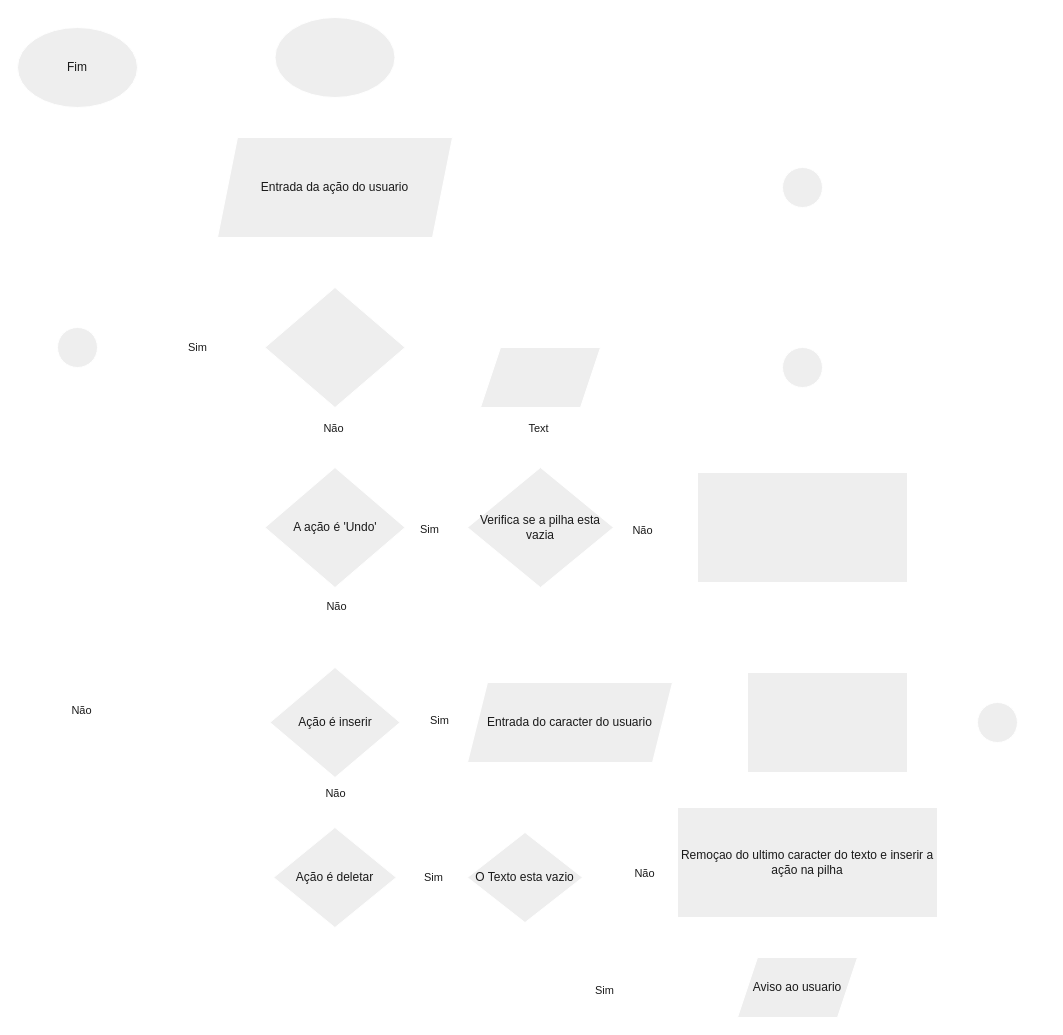
The diagram is 1063 pixels wide and 1035 high, and some of its shapes have lost their labels. The shapes that lost their labels are listed below. From the top down, each one's box as (x1, y1, x2, y2) in pixels, then its label:
(274, 16, 395, 98): Inicio
(264, 286, 405, 408): Ação == Sair
(480, 346, 600, 408): Aciso ao usuario
(696, 472, 908, 582): Leitura do topo da pilha, execução da ação inversa e remoçao do No da pilha.
(746, 672, 908, 772): Adicionar o caracter no final do texto e inserir a ação na pilha
